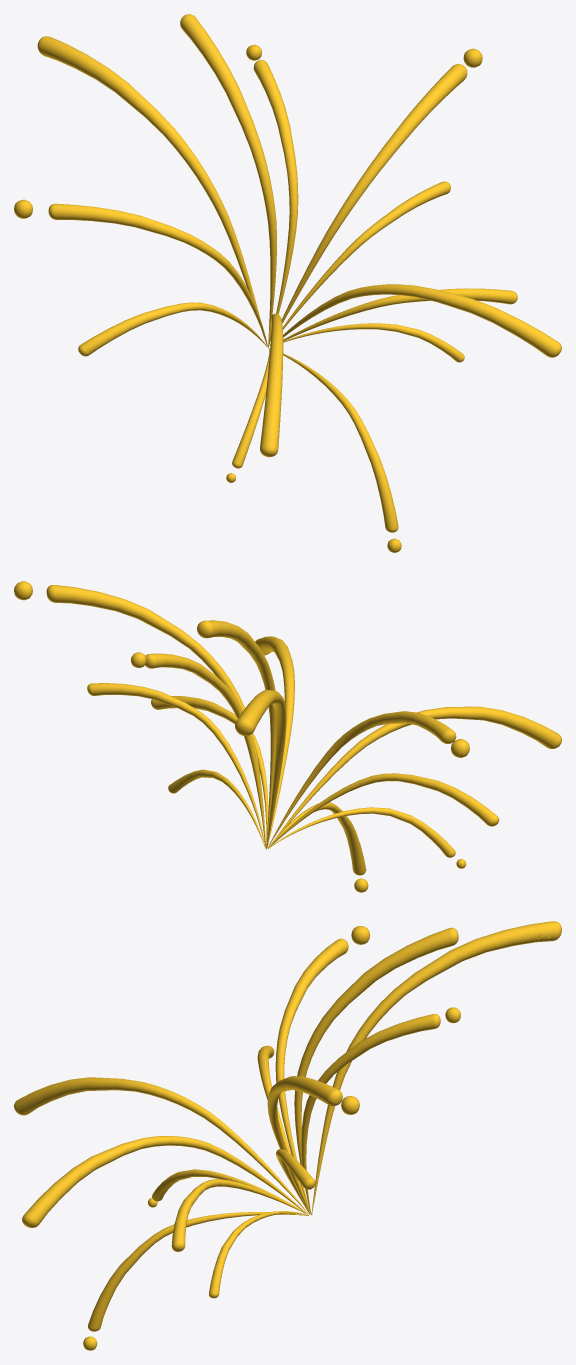
The model's file is fireworks.fbx.
3 views of the same model, one above another, from view 1: azimuth 30°, elevation 25°; view 2: azimuth 150°, elevation 25°; view 3: azimuth 270°, elevation 25° (orthographic).
Visible parts, largest first — view 1: Sphere.513; view 2: Sphere.513; view 3: Sphere.513.
Part boxes in pixels (left/top/right/bottom): Sphere.513: left=14, top=14, right=561, bottom=552; Sphere.513: left=14, top=581, right=561, bottom=892; Sphere.513: left=14, top=921, right=561, bottom=1350.
Bounding box in the file's own units: 238 × 203 × 246.
1 material, 1 textured.
